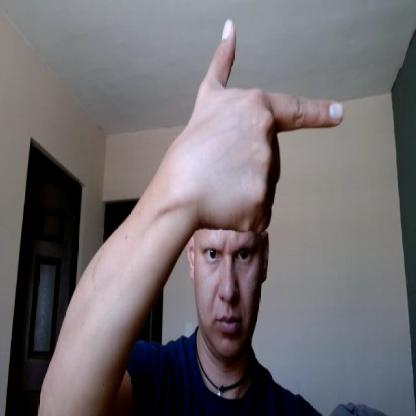G: (193, 17, 344, 233)
